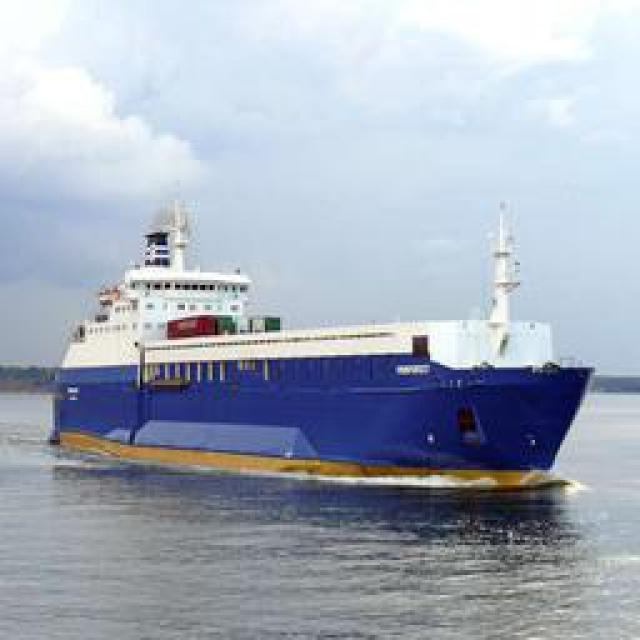Ship: (56, 186, 596, 491)
